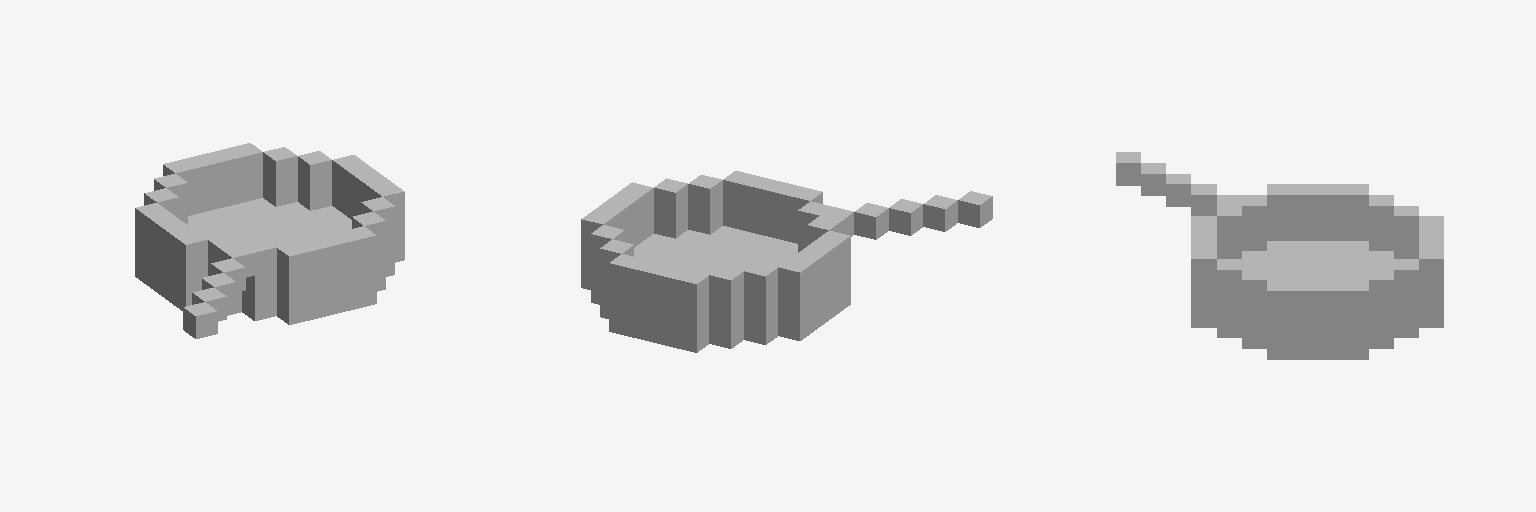
Rendered from cooking_skillet.obj.
3 views of the same model, side by side, from view 1: azimuth 30°, elevation 25°; view 2: azimuth 150°, elevation 25°; view 3: azimuth 270°, elevation 25° (orthographic).
Parts seen in each view (by area): view 1: node_0_0_0.001; view 2: node_0_0_0.001; view 3: node_0_0_0.001.
Boxes of the visible parts, x1,y1,x2,y2 form: node_0_0_0.001: [135, 143, 404, 338]; node_0_0_0.001: [581, 171, 992, 352]; node_0_0_0.001: [1116, 152, 1443, 359].
Size of the model in its own units: 0.8125 by 0.1875 by 0.8125.